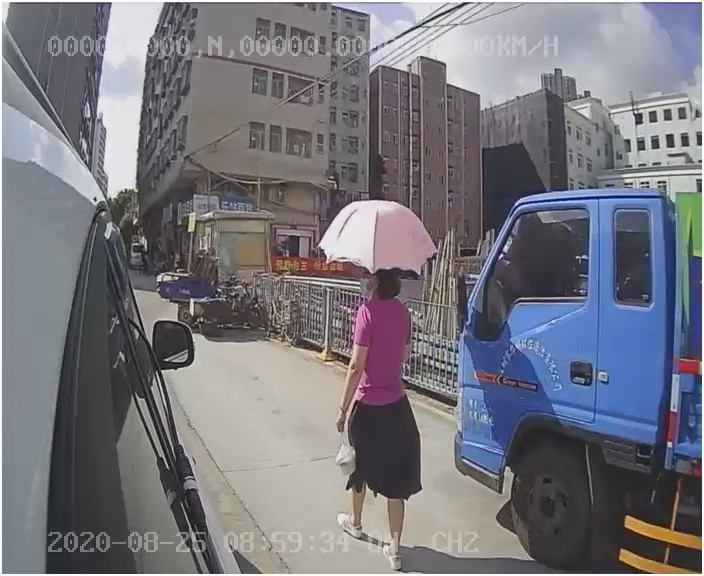person: (332, 267, 433, 541)
